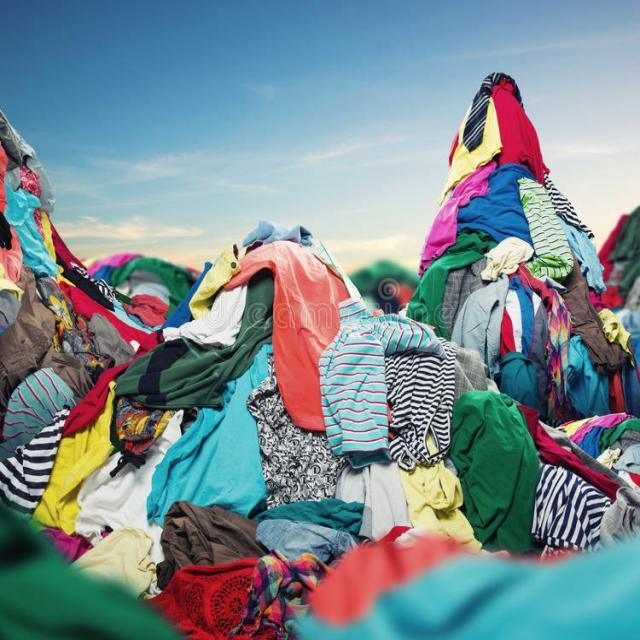clothes: (1, 245, 638, 598)
